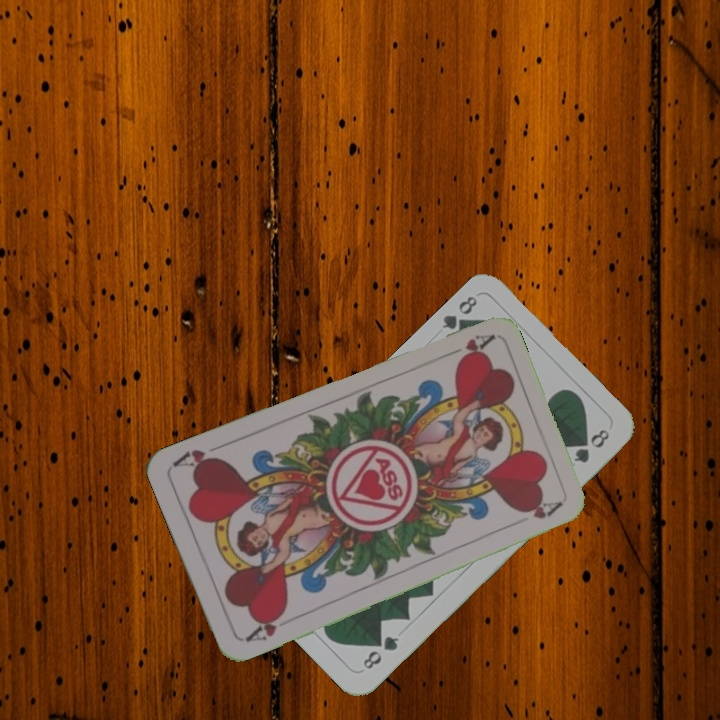G8: (437, 291, 480, 336), (358, 631, 402, 672)
HA: (438, 330, 496, 366), (241, 607, 288, 646)
